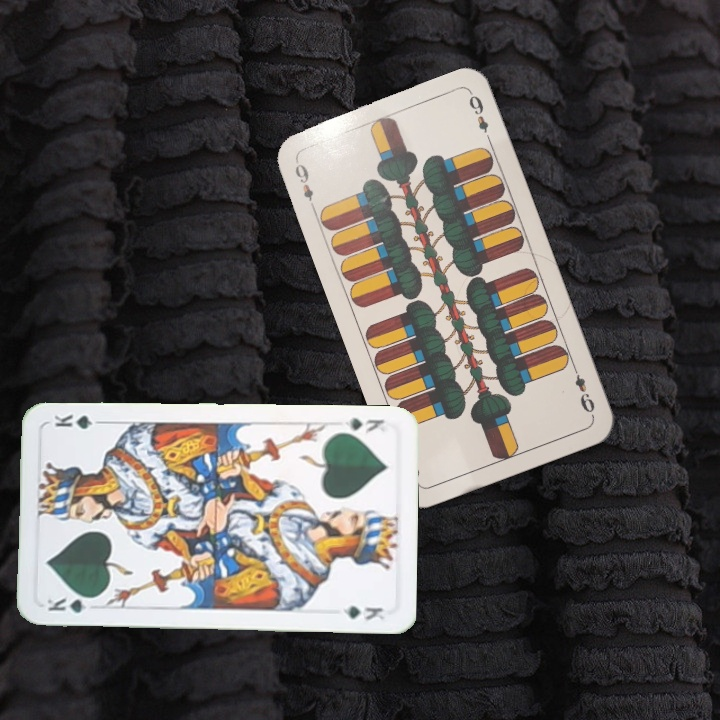E9: (568, 361, 598, 418), (290, 156, 316, 204)
GK: (43, 593, 100, 615), (340, 414, 387, 436)
